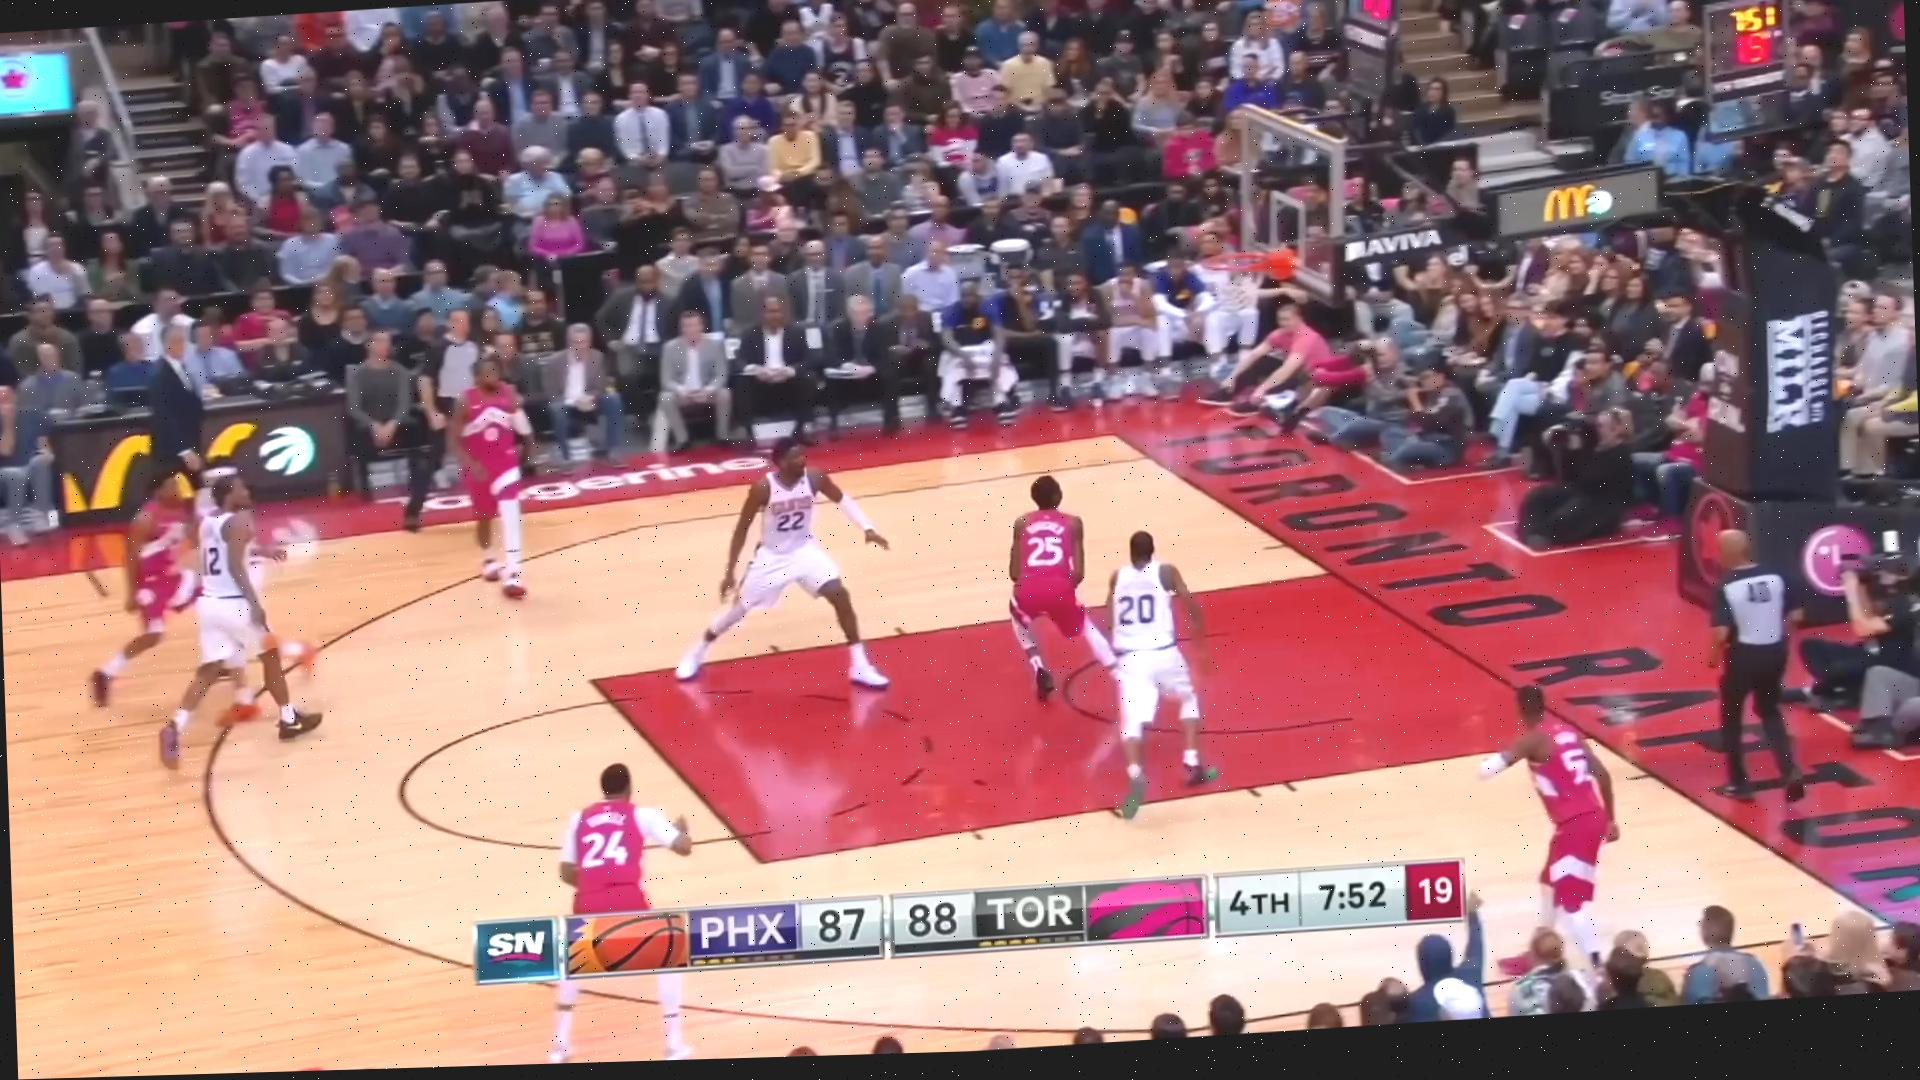no_foul: (964, 447, 1250, 819)
